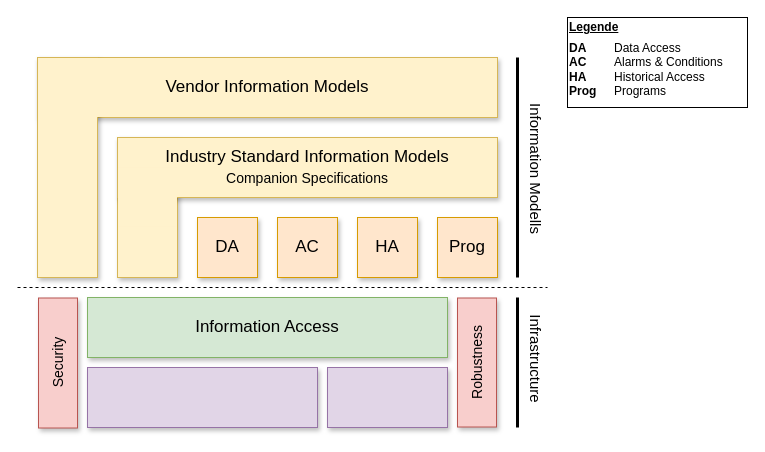
Image size: 765x452. Some labels were removed from this diagram. Here are the shapes that lost their labels. From the top down, the centre of each, then its label:
At pixel 203 398: "Transport".
At pixel 388 398: "Discovery".
